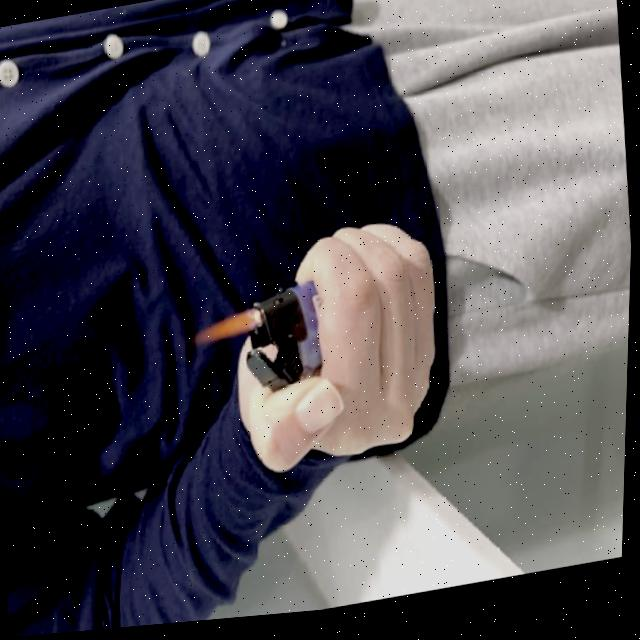Fire: (192, 306, 267, 353)
